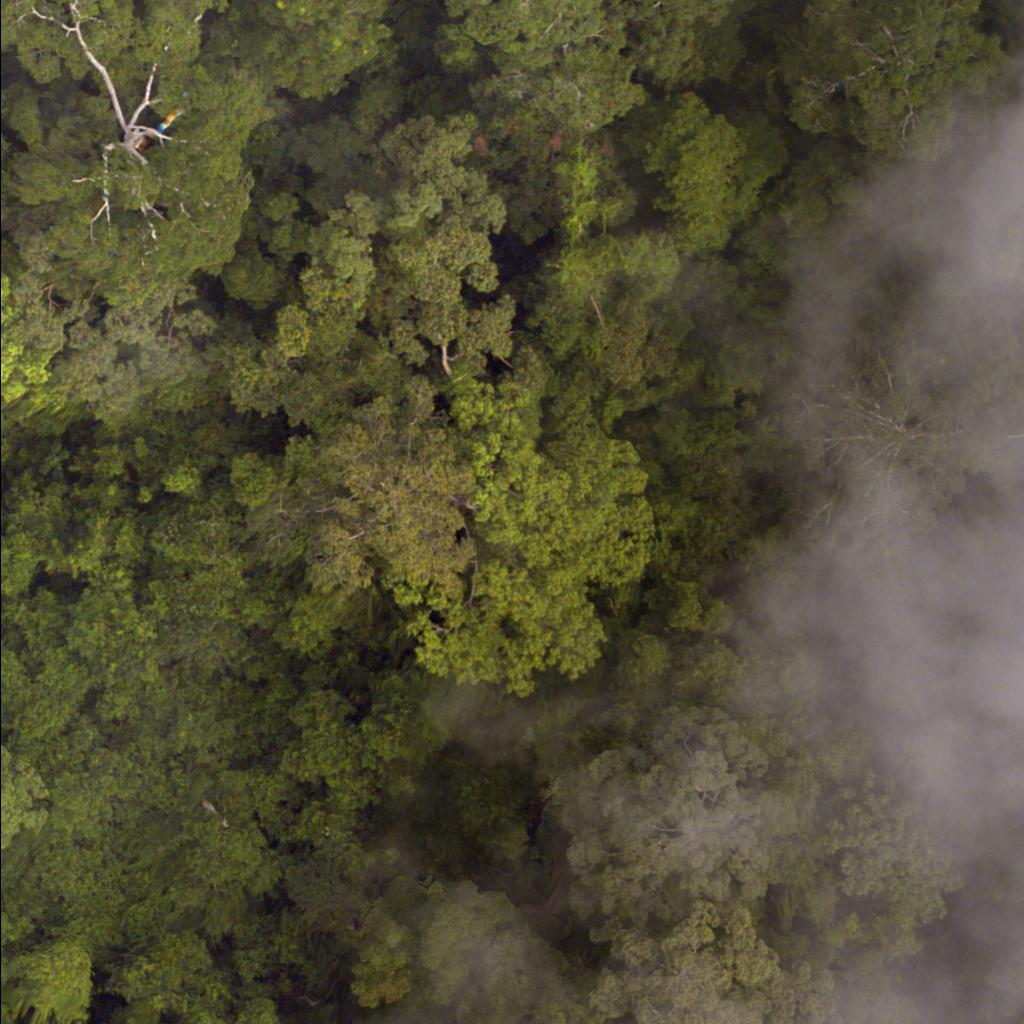crown: (422, 343, 673, 711), (801, 0, 1023, 182)
